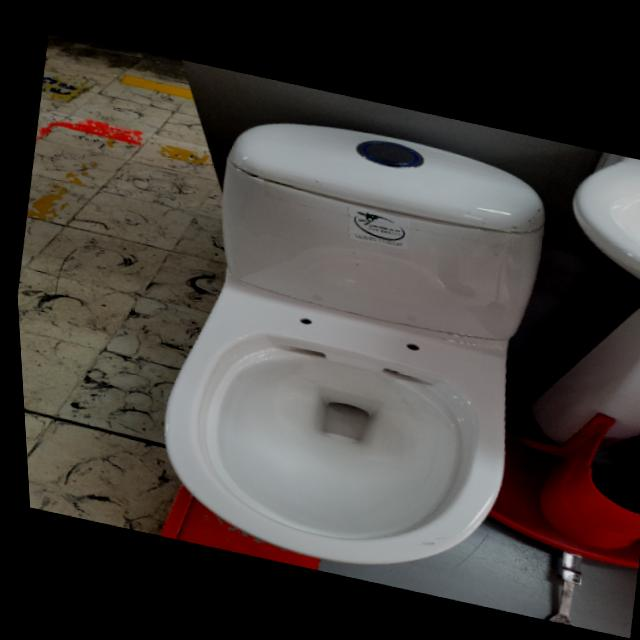toilet: (125, 90, 570, 597)
